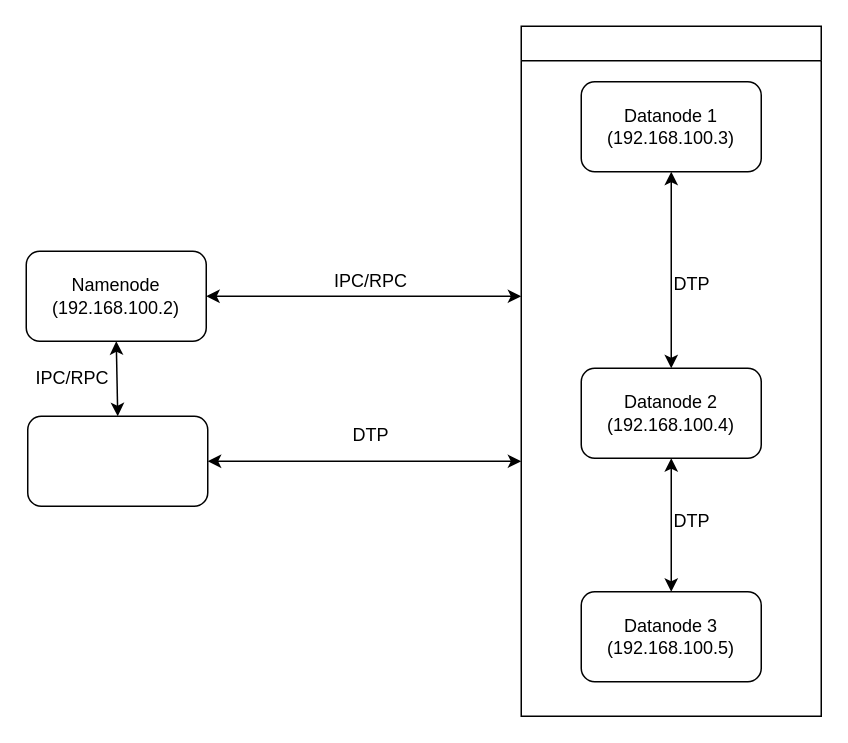
Some shapes in this 848 by 743 pixel diagram are drawn without their labels. The centre of each missing label's shape, as x and y in pixels:
"Client (192.168.100.100)" belongs at point 117,460.
"Datanode(s)" belongs at point 670,370.
